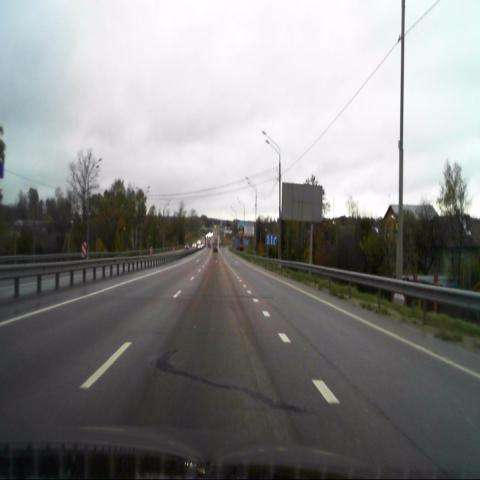5_15_1: (266, 233, 277, 245)
